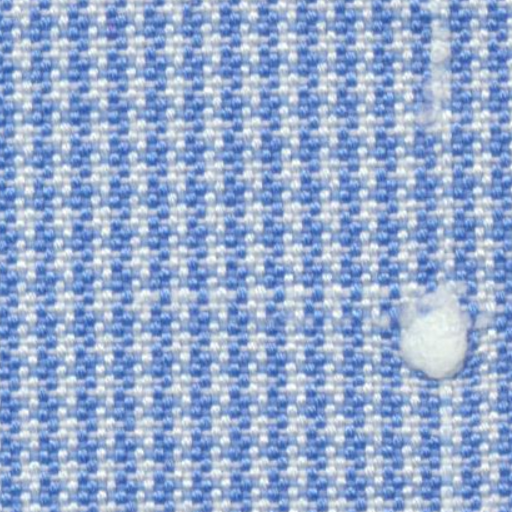MianQiu: (380, 270, 486, 387)
